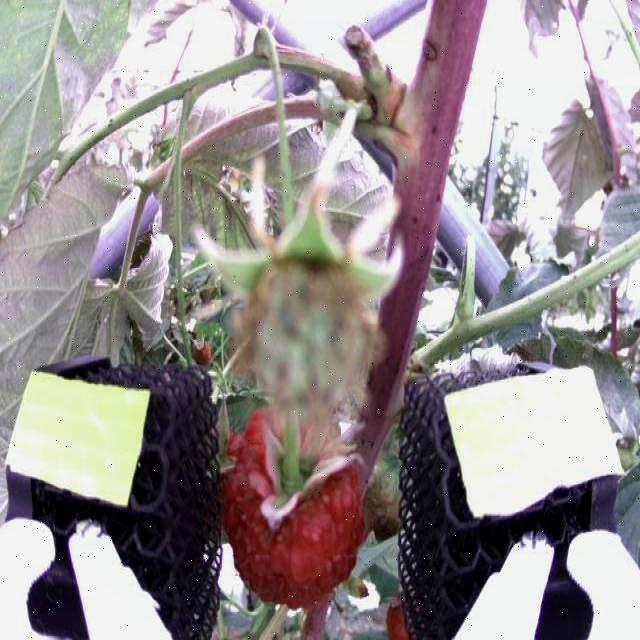Riped berries: (222, 396, 375, 602)
